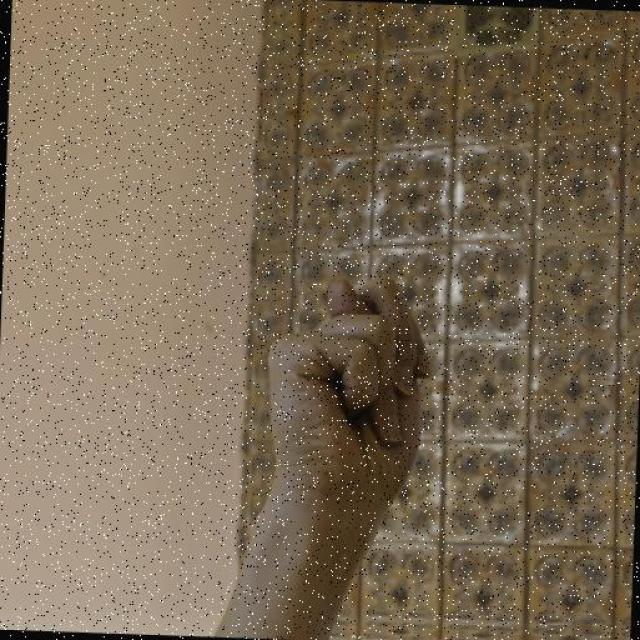N: (258, 255, 438, 500)
